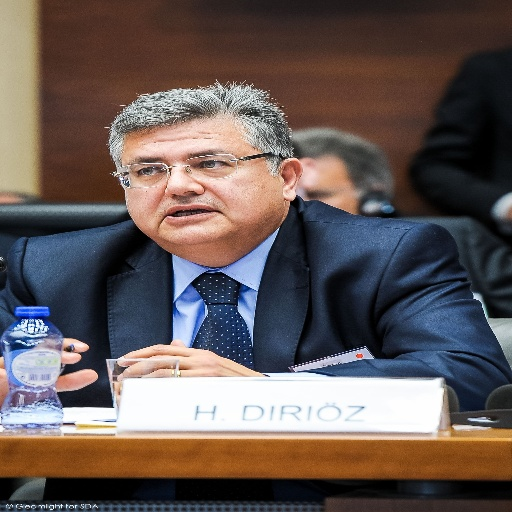hand: (110, 340, 266, 385), (0, 337, 97, 406)
